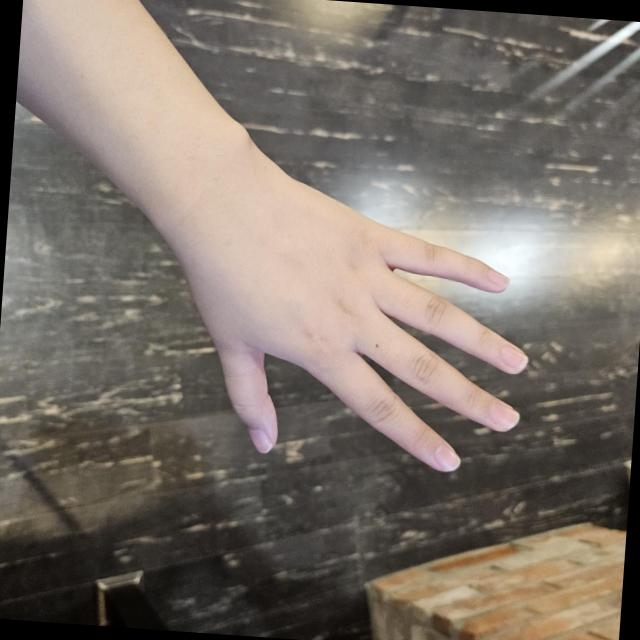Nail: (490, 402, 518, 428), (433, 444, 459, 471), (499, 346, 527, 371), (246, 427, 271, 453), (485, 267, 508, 290)
